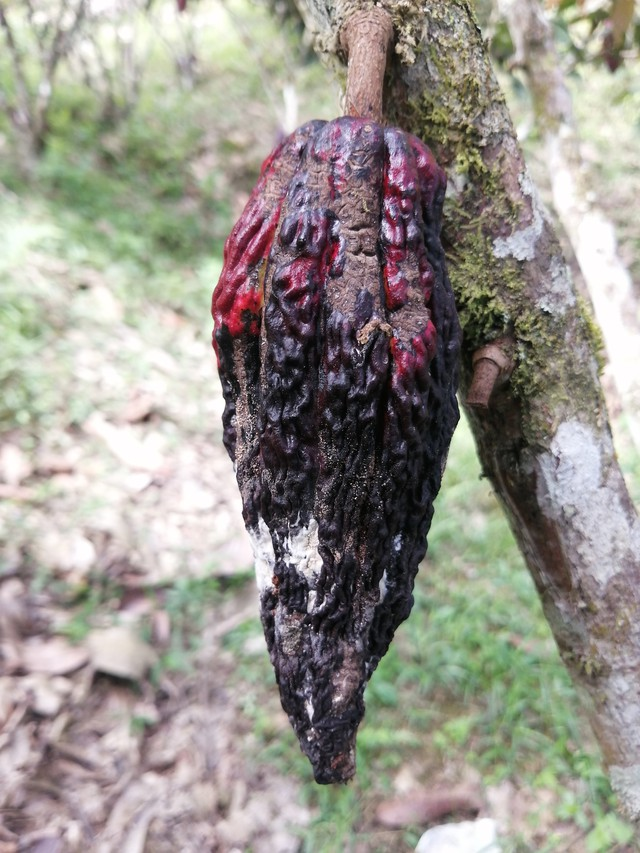moniliophthora roreri: (184, 105, 485, 814)
